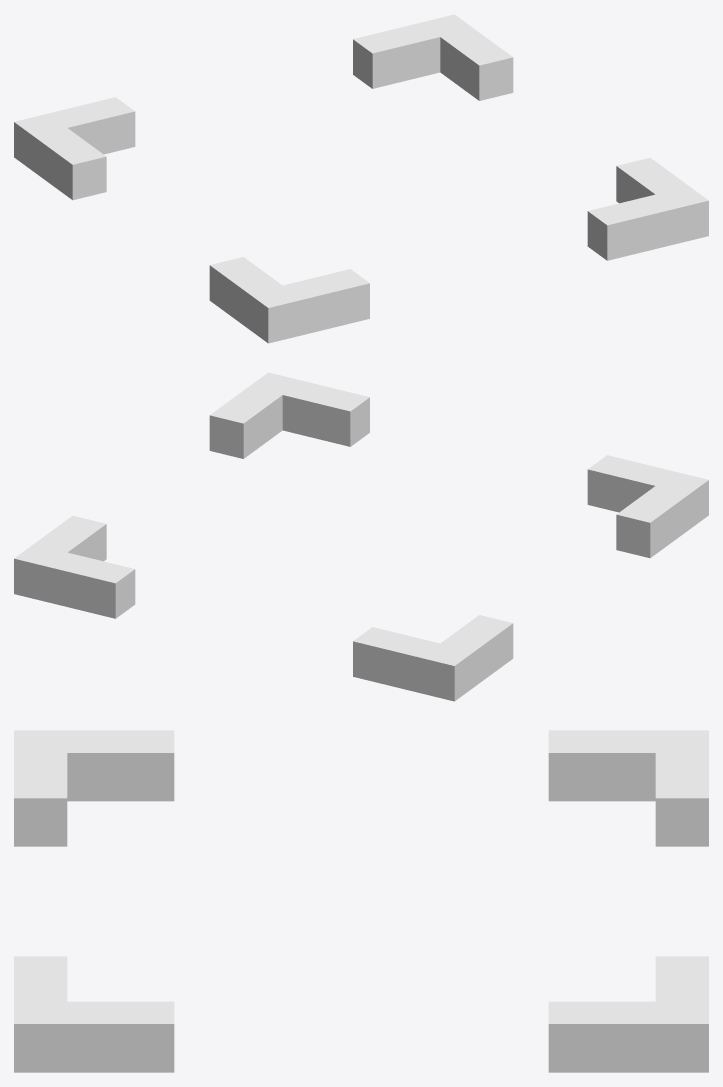
The model's file is Cursor.obj.
The picture shows the model from 3 angles, top to bottom: view 1: azimuth 30°, elevation 25°; view 2: azimuth 150°, elevation 25°; view 3: azimuth 270°, elevation 25°; orthographic projection. The views are drawn at different scales.
Size of the model in its own units: 1.3 by 0.1 by 1.3.
Materials: 1 (1 with a texture image).
